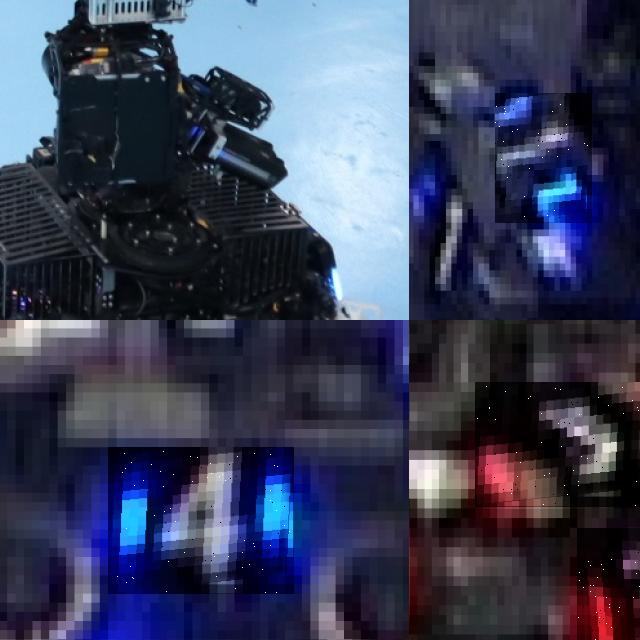B1: (495, 93, 592, 223)
B4: (108, 447, 294, 594)
R3: (475, 382, 640, 508), (577, 527, 640, 640)
